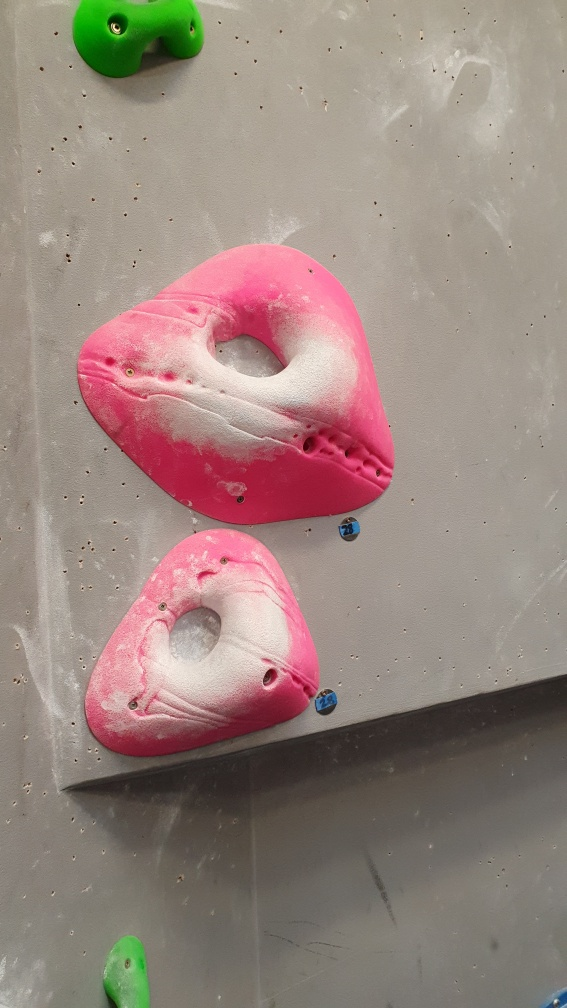Hand Start: (309, 684, 342, 721), (335, 512, 363, 546)
Pocket: (71, 237, 404, 530), (77, 521, 326, 763)
